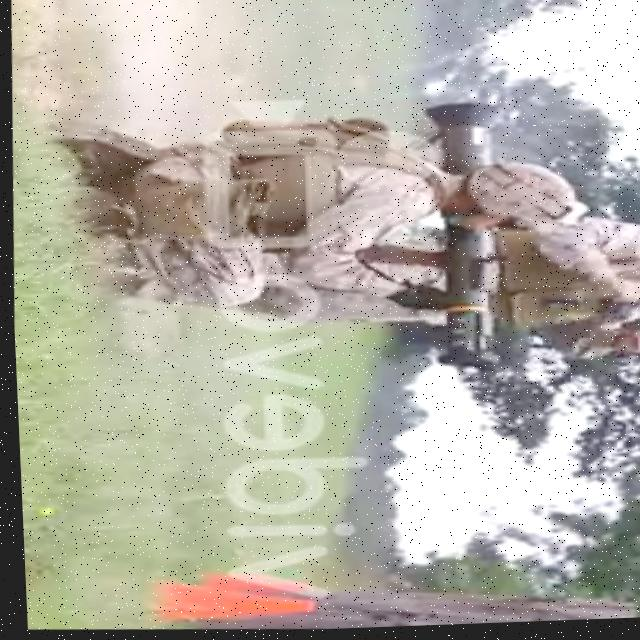rocket: (414, 101, 506, 373)
